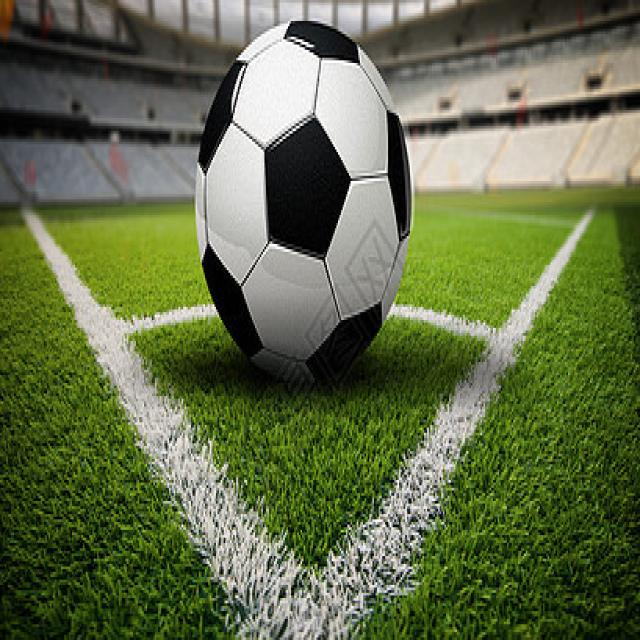football: (186, 1, 420, 400)
